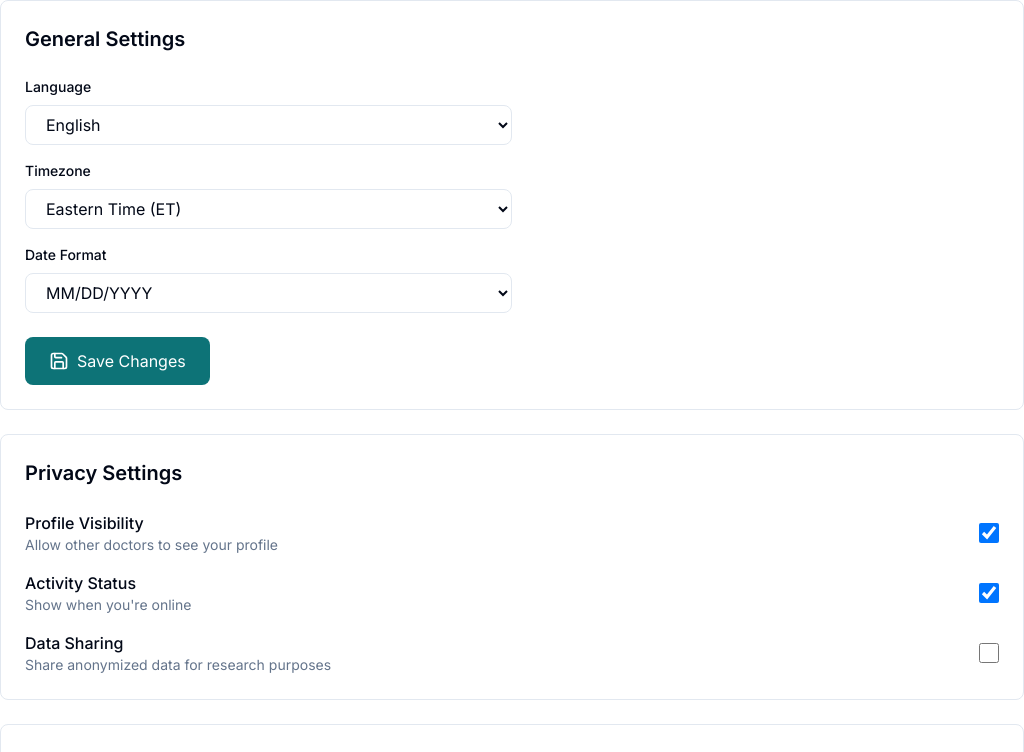
Test: AccountSettings › should successfully save account preferences
Expected: the button "Save Changes" is shown, top-left (25, 337), bottom-right (210, 385)
Select "Español" in the dropdown labelled "Language" at [268, 125], box top-left (25, 105), bottom-right (512, 145)
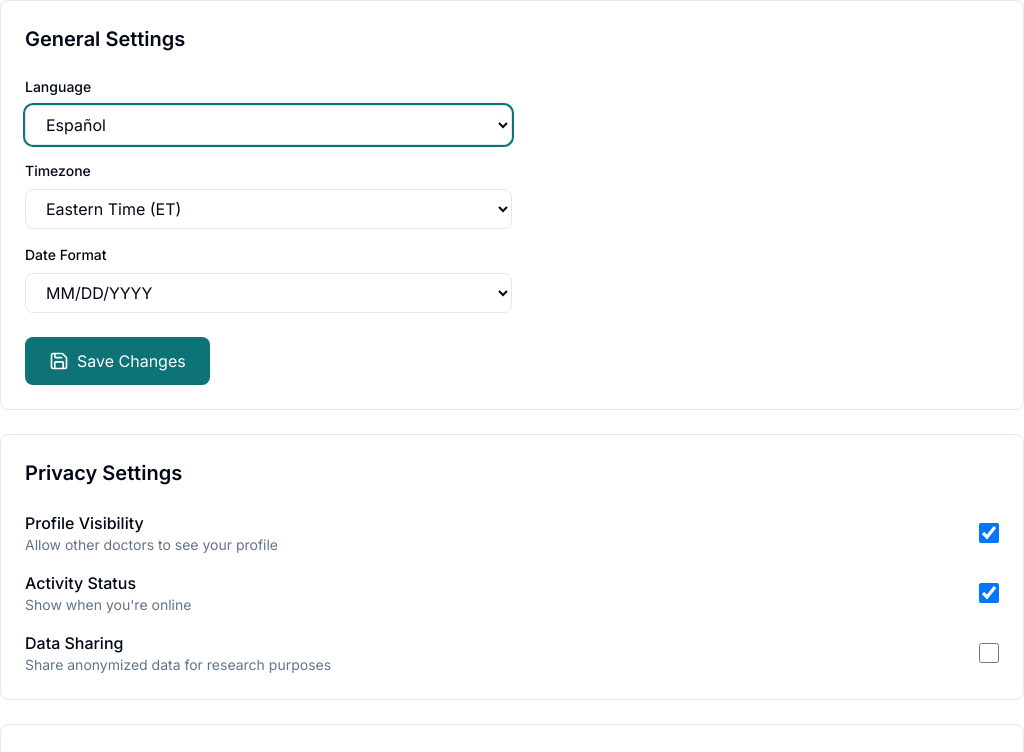
Click the button "Save Changes" at [117, 361], box top-left (25, 337), bottom-right (210, 385)
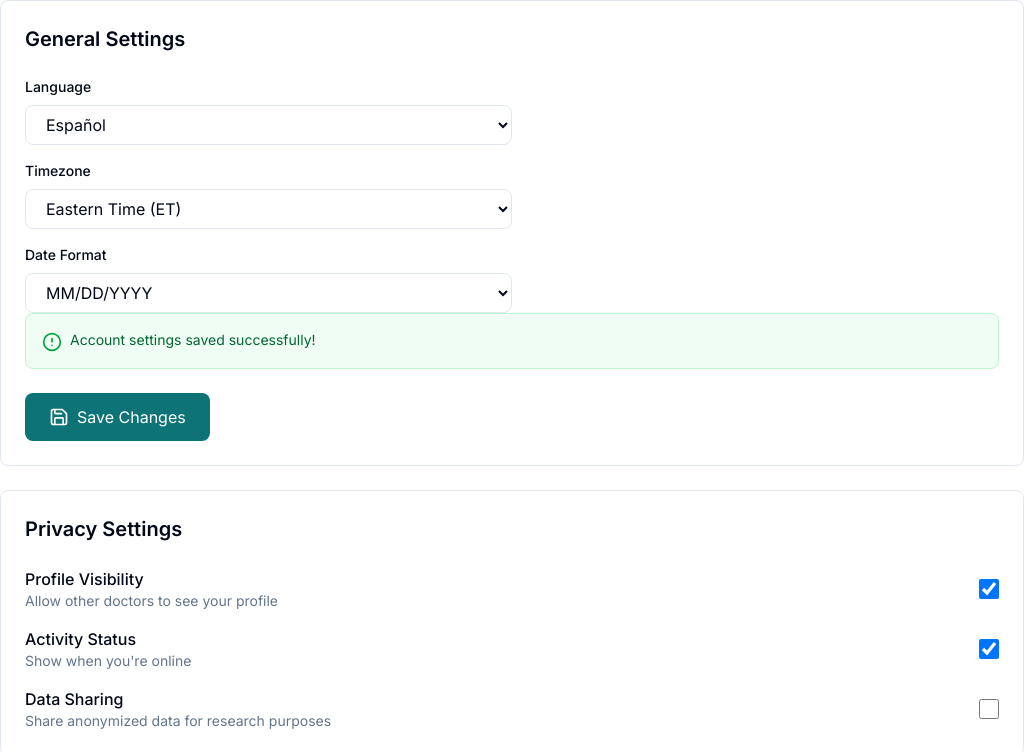
Result: the text "Account settings saved successfully!" is shown at top-left (70, 330), bottom-right (316, 350)
